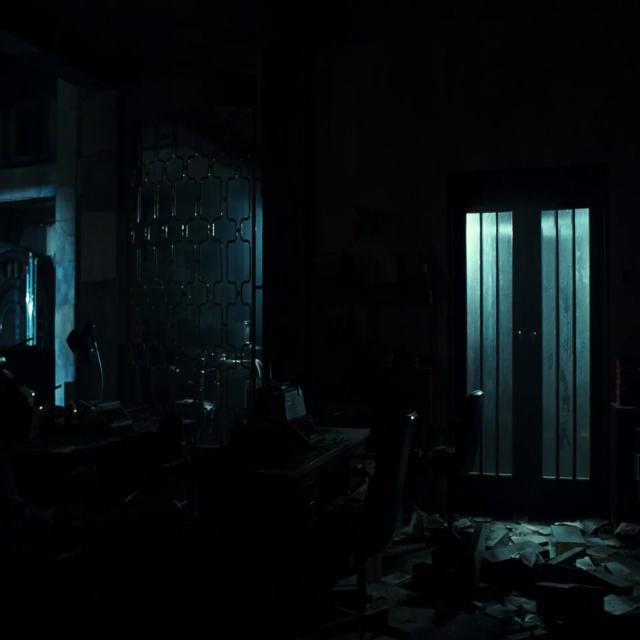Table: (152, 385, 381, 633), (0, 365, 151, 625)
chair: (354, 391, 426, 572), (423, 372, 490, 547)
